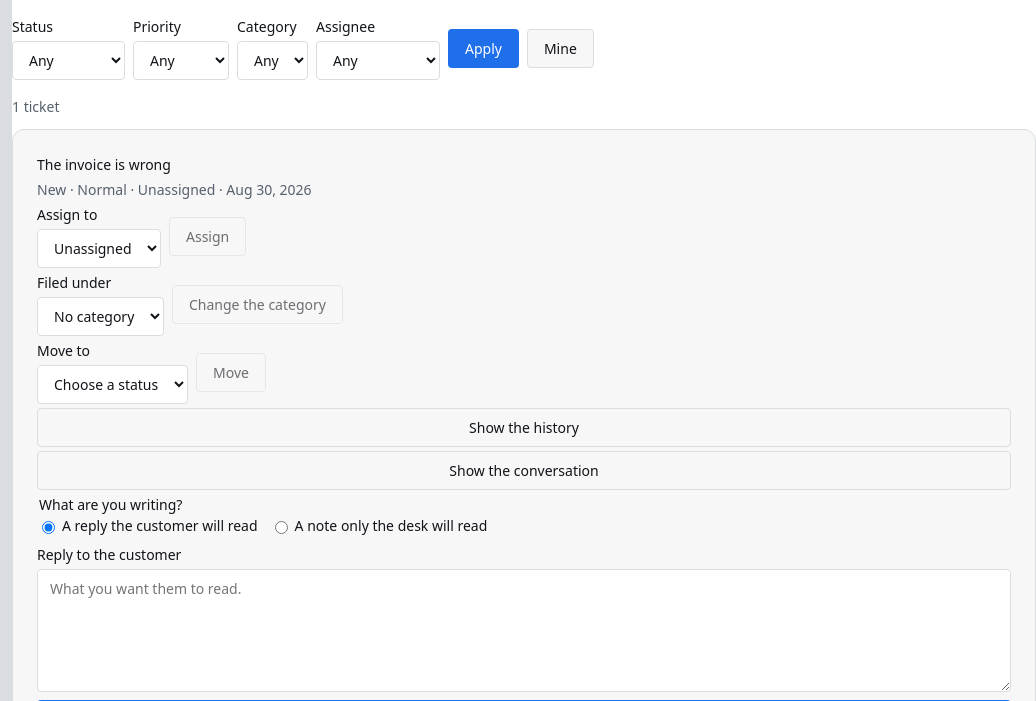
Test: a public reply and an internal note are visibly different, not only captioned
This screenshot has width=1036, height=701.
Click the button "Show the conversation": (524, 470) [37,451,1011,490]
(page scrolled)
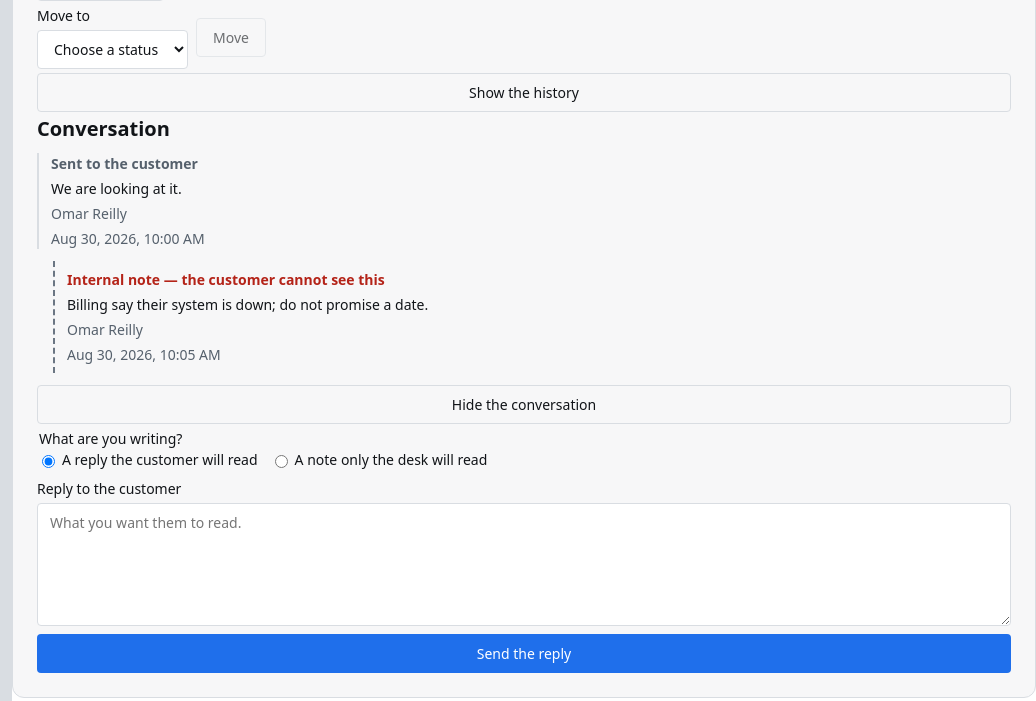
Expected: the number of list items with class "ticket-thread__message" is 2, [37,153,1011,249]; [53,261,1011,373]
Expected: the text "Sent to the customer" is shown, [51,154,198,173]
Expected: the text "Internal note — the customer cannot see this" is shown, [67,270,385,289]
